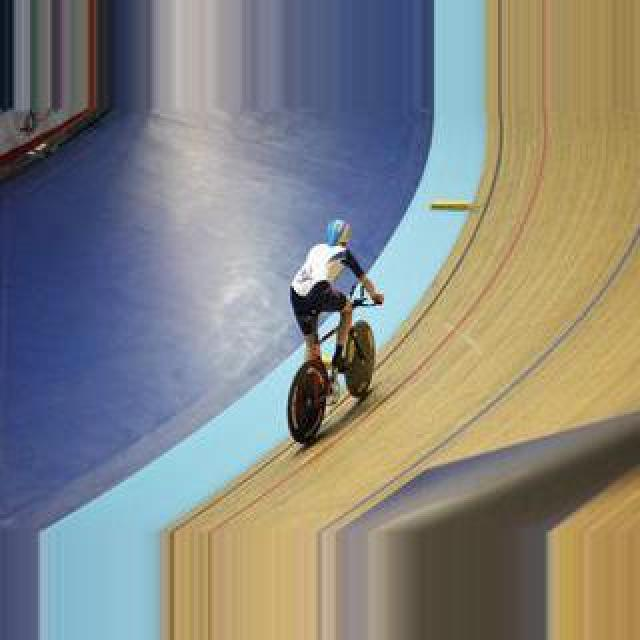MC-Bike: (290, 218, 386, 382)
Person: (286, 306, 378, 446)
